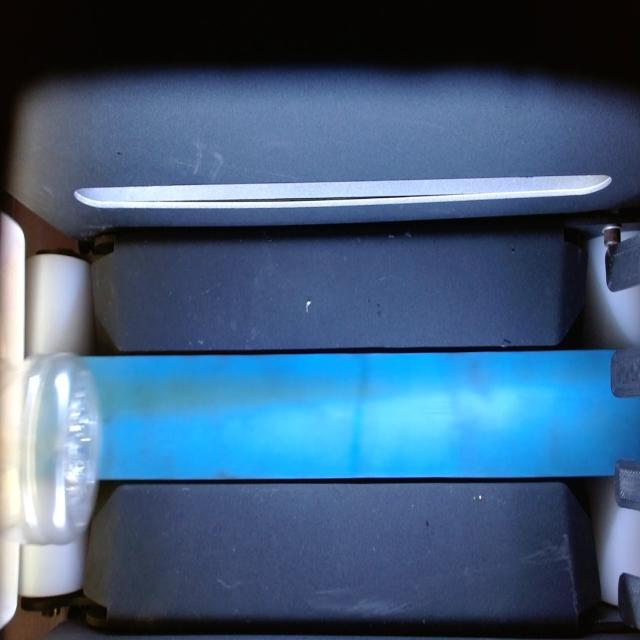bottom: (0, 353, 100, 544)
